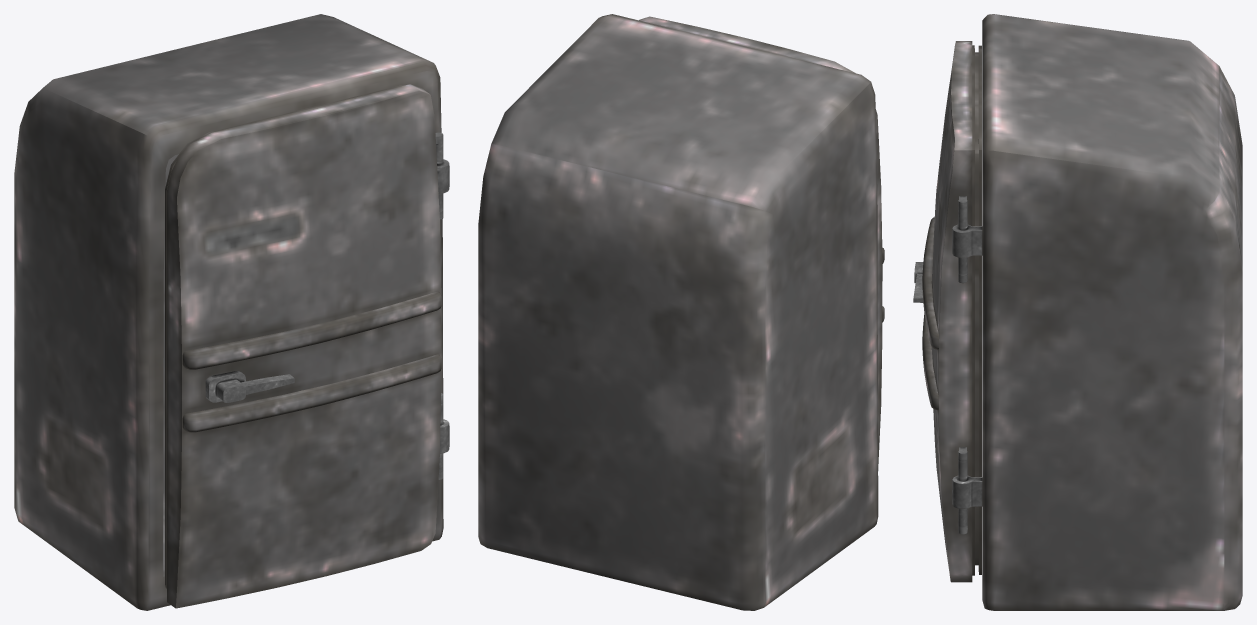
The model's file is Fridge.fbx.
The picture shows the model from 3 angles, left to right: view 1: azimuth 30°, elevation 25°; view 2: azimuth 150°, elevation 25°; view 3: azimuth 270°, elevation 25°; orthographic projection. The views are drawn at different scales.
Visible parts, largest first — view 1: Cube:013_Cube:016.001, Cube:013_Cube:016; view 2: Cube:013_Cube:016, Cube:013_Cube:016.001; view 3: Cube:013_Cube:016, Cube:013_Cube:016.001.
Boxes of the visible parts, <box> form: Cube:013_Cube:016.001: <box>165,84,441,608</box>; Cube:013_Cube:016: <box>14,14,449,610</box>; Cube:013_Cube:016: <box>478,14,878,610</box>; Cube:013_Cube:016.001: <box>639,16,884,470</box>; Cube:013_Cube:016: <box>952,14,1242,610</box>; Cube:013_Cube:016.001: <box>913,41,981,582</box>.
Size of the model in its own units: 193 by 290 by 186.
1 material, 1 textured.
